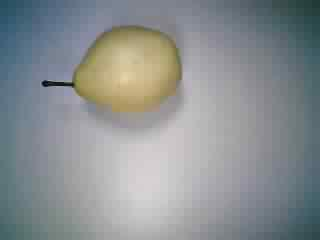pear: (34, 21, 192, 118)
